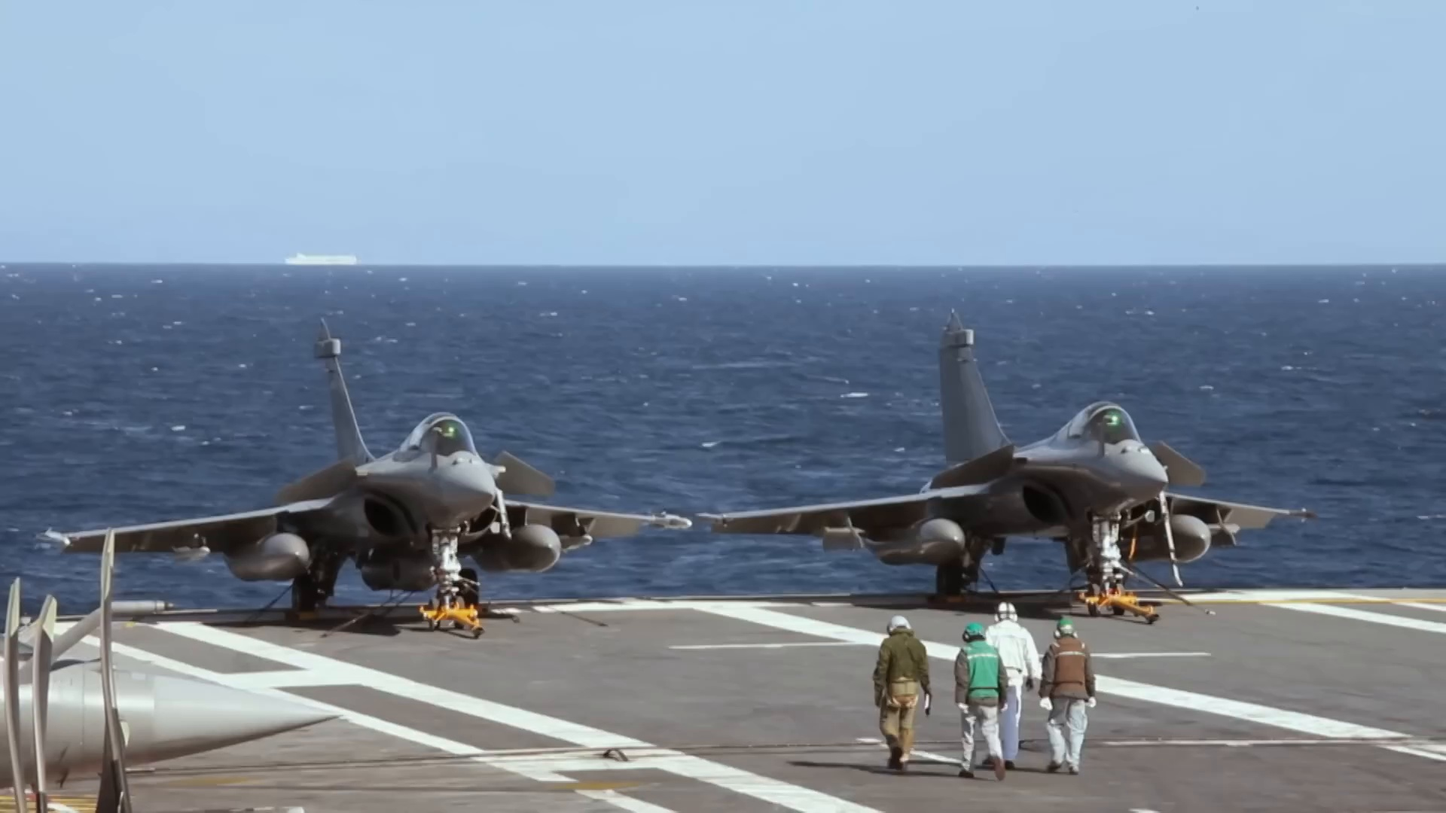Rafale: (34, 311, 690, 627), (697, 307, 1320, 631)
